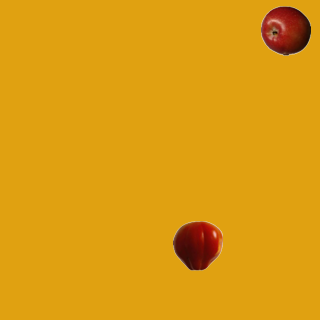Apple Braeburn: (260, 5, 310, 55)
Tomato 1: (172, 220, 222, 270)
